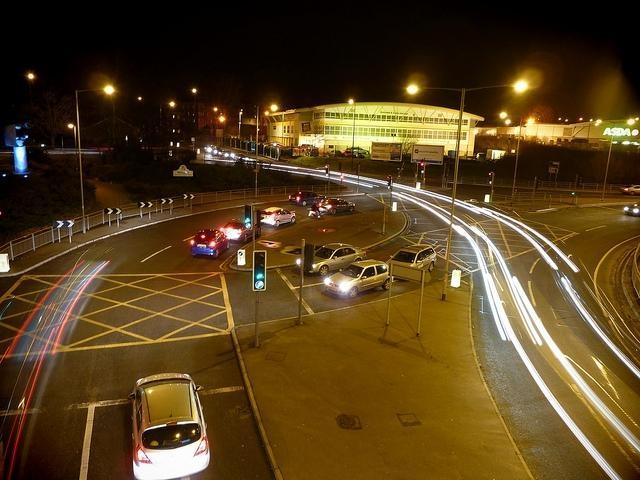car: (127, 372, 211, 480), (326, 259, 390, 299), (295, 242, 367, 276), (386, 242, 438, 271), (190, 228, 230, 257), (220, 219, 261, 243), (260, 208, 296, 228), (318, 198, 355, 215), (288, 192, 326, 206), (623, 198, 640, 218), (619, 184, 640, 194)
